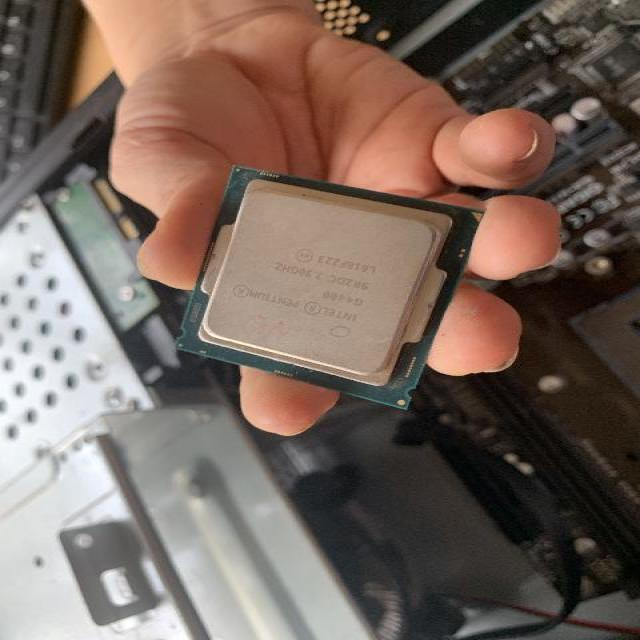CPU: (173, 160, 486, 408)
